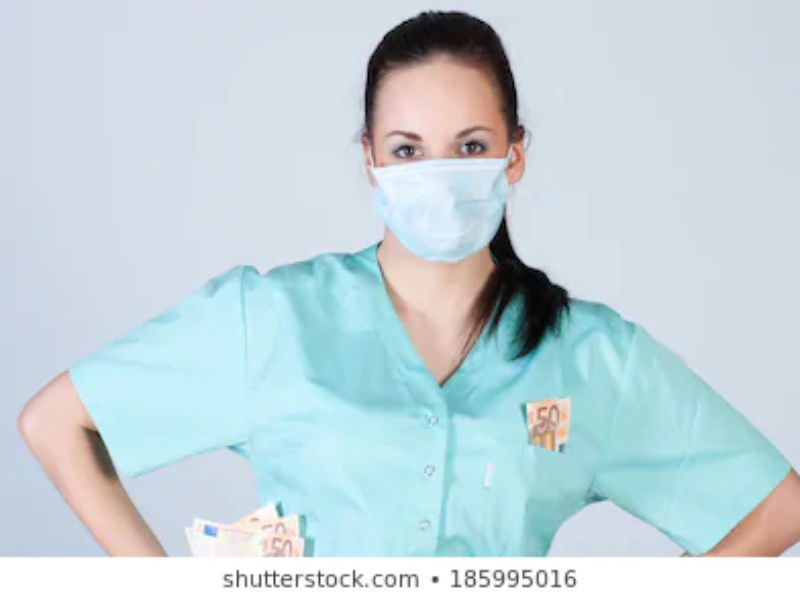ManaoArotava: (337, 23, 543, 287)
